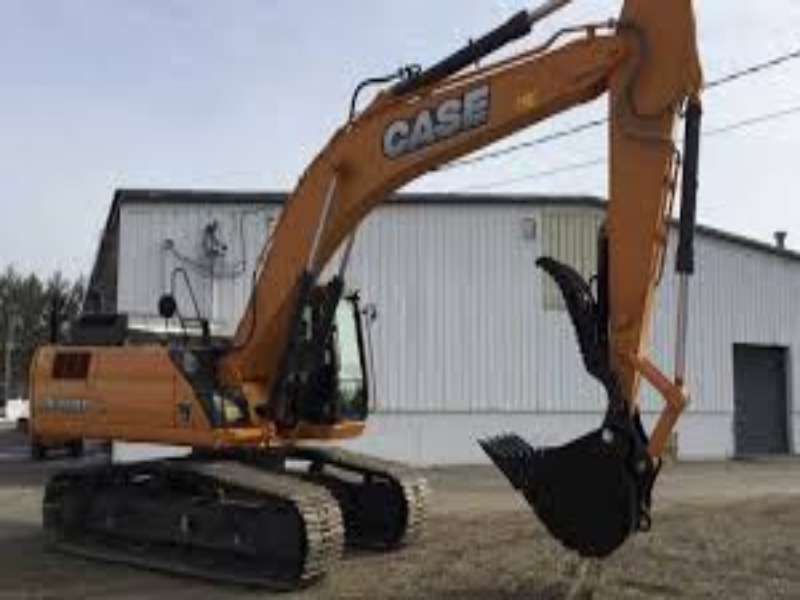wajueji: (11, 225, 461, 593)
